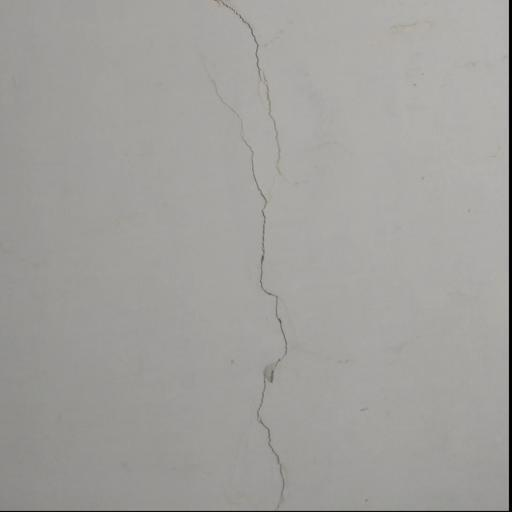minor_crack: (185, 0, 306, 512)
